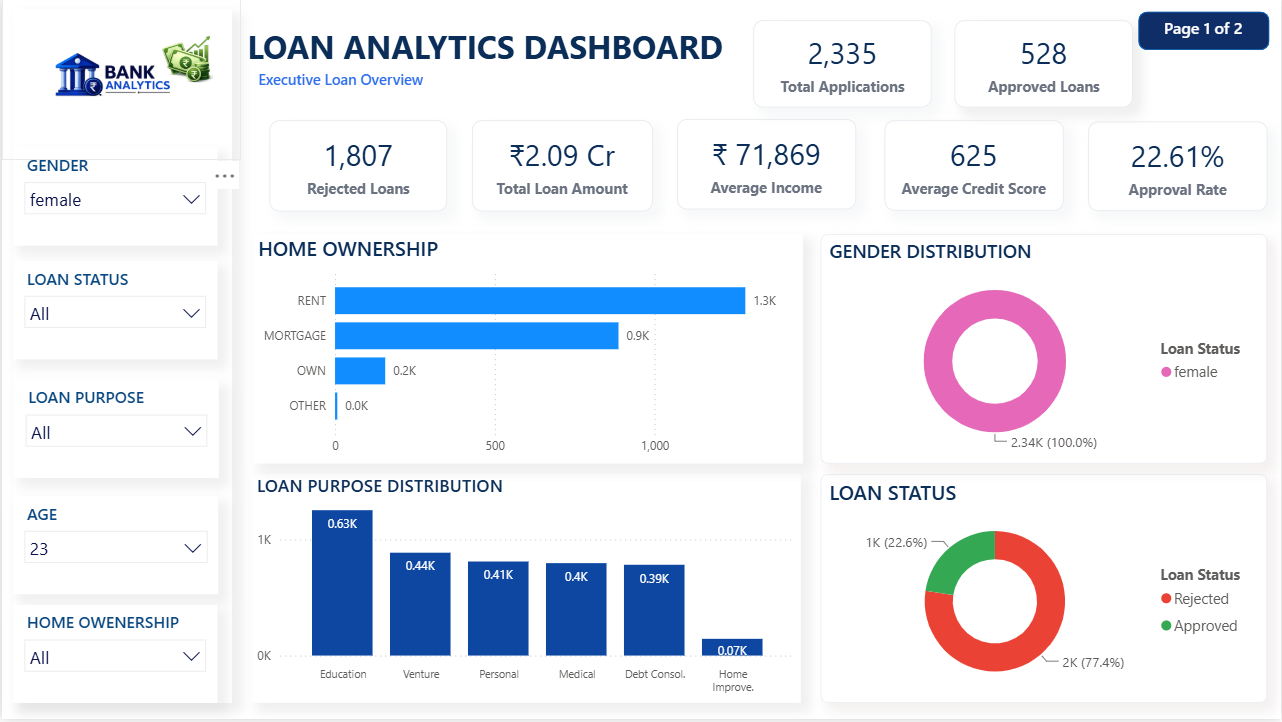

Layout of this report page (visuals, bound fields, positions):
{"tool":"powerbi","page":{"name":"Page 1","canvas":[1280,720],"ordinal":0},"visuals":[{"type":"textbox","box":[215.6,20.8,536.4,55.8],"z":0},{"type":"textbox","box":[250.9,65.1,299.2,31.4],"z":1000},{"type":"card","title":"Total Applicants","fields":{"Values":["loan_data (1).Total Applications"]},"box":[751.2,21.2,178.8,87.5],"z":2000},{"type":"card","title":"Total Applicants","fields":{"Values":["loan_data (1).Approval Rate"]},"box":[1085.7,122.1,179.2,89.6],"z":3000},{"type":"card","title":"Total Applicants","fields":{"Values":["loan_data (1).Approved Loans"]},"box":[952.5,21.2,178.8,87.5],"z":4000},{"type":"card","title":"Total Applicants","fields":{"Values":["loan_data (1).Average Income"]},"box":[675,120.5,178.9,90.1],"z":5000},{"type":"card","title":"Total Applicants","fields":{"Values":["loan_data (1).Total Loan Amountt"]},"box":[470.1,120.8,180.5,90.9],"z":6000},{"type":"card","title":"Total Applicants","fields":{"Values":["loan_data (1).Rejected Loans"]},"box":[267.5,120.8,177.9,90.9],"z":7000},{"type":"card","title":"Total Applicants","fields":{"Values":["loan_data (1).Average Credit Score"]},"box":[883.1,121.8,178.9,90.1],"z":8000},{"type":"donutChart","title":"LOAN STATUS","fields":{"Y":["CountNonNull(loan_data (1).loan_status)"],"Category":["loan_data (1).Loan Status Name"]},"box":[818.2,475.3,446.8,228.6],"z":9000},{"type":"clusteredColumnChart","title":"LOAN PURPOSE DISTRIBUTION","fields":{"Y":["CountNonNull(loan_data (1).loan_intent)"],"Category":["loan_data (1).Loan Purpose Display"]},"box":[250,475,548.8,228.8],"z":10000},{"type":"clusteredBarChart","title":"HOME OWNERSHIP","fields":{"Category":["loan_data (1).person_home_ownership"],"Y":["CountNonNull(loan_data (1).person_home_ownership)"]},"box":[250.6,235.1,549.4,229.9],"z":11000},{"type":"donutChart","title":"GENDER DISTRIBUTION","fields":{"Y":["CountNonNull(loan_data (1).person_gender)"],"Category":["loan_data (1).person_gender"]},"box":[818.2,235.1,446.8,229.9],"z":12000},{"type":"shape","box":[11.7,10.4,219.5,693.5],"z":13000},{"type":"slicer","fields":{"Values":["loan_data (1).person_gender"]},"box":[11.2,148.8,203.8,97.5],"z":14000},{"type":"slicer","fields":{"Values":["loan_data (1).Loan Purpose Display"]},"box":[12.5,381.2,203.8,97.5],"z":15000},{"type":"slicer","fields":{"Values":["loan_data (1).Loan Status Name"]},"box":[11.2,262.5,203.8,97.5],"z":16000},{"type":"slicer","fields":{"Values":["loan_data (1).person_age"]},"box":[11.2,497.5,205,97.5],"z":17000},{"type":"slicer","fields":{"Values":["loan_data (1).person_home_ownership"]},"box":[11.2,606.2,203.8,97.5],"z":18000},{"type":"image","box":[0,0,239,161],"z":19000},{"type":"shape","title":"Page 2 of 2","box":[1136.2,12.5,131.2,38.8],"z":20000},{"type":"textbox","box":[1152.5,12.5,115,40],"z":21000}]}

Visuals, with their boxes in screenshot pixels (x1, y1, x2, y2), scaled from the page's 1280x720 canvas onto the 1282x722 screenshot:
textbox: {"x1": 216, "y1": 21, "x2": 753, "y2": 77}
textbox: {"x1": 251, "y1": 65, "x2": 551, "y2": 97}
"Total Applicants" card: {"x1": 752, "y1": 21, "x2": 931, "y2": 109}
"Total Applicants" card: {"x1": 1087, "y1": 122, "x2": 1267, "y2": 212}
"Total Applicants" card: {"x1": 954, "y1": 21, "x2": 1133, "y2": 109}
"Total Applicants" card: {"x1": 676, "y1": 121, "x2": 855, "y2": 211}
"Total Applicants" card: {"x1": 471, "y1": 121, "x2": 652, "y2": 212}
"Total Applicants" card: {"x1": 268, "y1": 121, "x2": 446, "y2": 212}
"Total Applicants" card: {"x1": 884, "y1": 122, "x2": 1064, "y2": 212}
"LOAN STATUS" donutChart: {"x1": 819, "y1": 477, "x2": 1267, "y2": 706}
"LOAN PURPOSE DISTRIBUTION" clusteredColumnChart: {"x1": 250, "y1": 476, "x2": 800, "y2": 706}
"HOME OWNERSHIP" clusteredBarChart: {"x1": 251, "y1": 236, "x2": 801, "y2": 466}
"GENDER DISTRIBUTION" donutChart: {"x1": 819, "y1": 236, "x2": 1267, "y2": 466}
shape: {"x1": 12, "y1": 10, "x2": 232, "y2": 706}
slicer - loan_data (1).person_gender: {"x1": 11, "y1": 149, "x2": 215, "y2": 247}
slicer - loan_data (1).Loan Purpose Display: {"x1": 13, "y1": 382, "x2": 217, "y2": 480}
slicer - loan_data (1).Loan Status Name: {"x1": 11, "y1": 263, "x2": 215, "y2": 361}
slicer - loan_data (1).person_age: {"x1": 11, "y1": 499, "x2": 217, "y2": 597}
slicer - loan_data (1).person_home_ownership: {"x1": 11, "y1": 608, "x2": 215, "y2": 706}
image: {"x1": 0, "y1": 0, "x2": 239, "y2": 161}
"Page 2 of 2" shape: {"x1": 1138, "y1": 13, "x2": 1269, "y2": 51}
textbox: {"x1": 1154, "y1": 13, "x2": 1269, "y2": 53}
